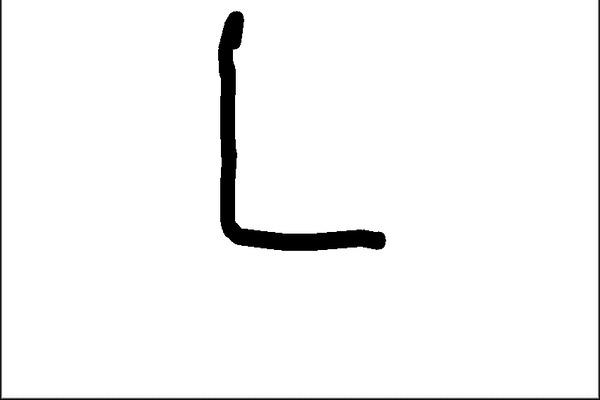L: (210, 4, 393, 267)
